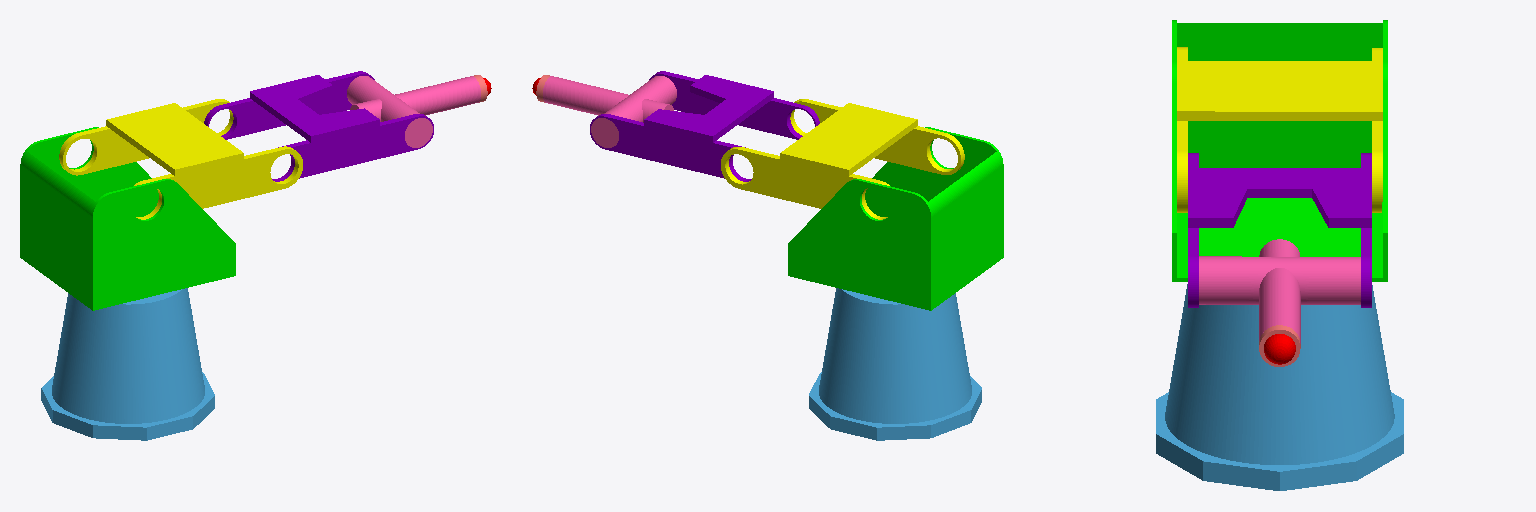
robot.urdf — scorbot:
<?xml version="1.0"?>

<robot name="scorbot">

  <!-- ======================================================= -->
  <!-- NOTA GENERAL                                           -->
  <!-- ======================================================= -->
  <!-- https://wiki.ros.org/urdf/XML
    visual    : Malla usada para mostrar el robot en RViz.
    collision : Malla usada para detectar colisiones en Gazebo.
    inertial  : Propiedades físicas del eslabón.

    En inertial:
    origin  -> centro de masa respecto al SC del link.
    mass    -> masa del eslabón en kg.
    inertia -> matriz de inercia respecto al centro de masa.

    En joint:
    origin  -> ubicación y orientación del SC hijo respecto al SC padre.
    axis    -> eje local de rotación o desplazamiento.
    limit   -> límites articulares.

    En limit:
    lower    -> límite inferior en radianes.
    upper    -> límite superior en radianes.
    effort   -> torque máximo permitido en N·m.
    velocity -> velocidad máxima permitida en rad/s.
  -->

  <!-- ======================================================= -->
  <!-- SISTEMA DE REFERENCIA GLOBAL                           -->
  <!-- ======================================================= -->

  <link name="world"/>

  <joint name="world_to_base" type="fixed">
    <parent link="world"/>
    <child link="base_link"/>
  </joint>

  <!-- ======================================================= -->
  <!-- BASE_LINK                                              -->
  <!-- ======================================================= -->

  <link name="base_link">
    <!-- ===================================================== -->
    <!-- PROPIEDADES DINÁMICAS DEL ESLABÓN BASE               -->
    <!-- ===================================================== -->
    <inertial>
      <origin xyz="0.00063327 0.00002002 0.0860836" rpy="0 0 0"/>
      <mass value="5.64418463"/>
      <inertia ixx="0.03159046" ixy="0.0" ixz="0.0"
               iyy="0.03159045" iyz="0.000000859"
               izz="0.02690899"/>
    </inertial>
    <!-- ===================================================== -->
    <!-- REPRESENTACIÓN VISUAL                                -->
    <!-- ===================================================== -->
    <visual>
      <origin xyz="0 0 0" rpy="0 0 0"/>
      <geometry>
        <mesh filename="package://scorbot_gazebo/meshes/base_link.stl"/>
      </geometry>
    </visual>
    <!-- ===================================================== -->
    <!-- GEOMETRÍA DE COLISIÓN                                -->
    <!-- ===================================================== -->
    <collision>
      <origin xyz="0 0 0" rpy="0 0 0"/>
      <geometry>
        <mesh filename="package://scorbot_gazebo/meshes/base_link.stl"/>
      </geometry>
    </collision>

  </link>

<!-- ======================================================= -->
<!-- ARTICULACIÓN J1                                        -->
<!-- ======================================================= -->
<!-- Tipo de articulación: Revoluta                         -->
<!-- Relación entre sistemas de coordenadas: SC{0} to SC{1} -->
<!-- Torque motor: 15 oz·in = 0.106 N·m                    -->
<!-- Reductor J1: 127.1 : 1                                -->
<!-- Torque estimado a la salida: 0.106 × 127.1 = 13.47 N·m -->
<!-- Rango angular: 310° = ±155°                           -->
<!-- Conversión: ±155° = ±2.705 rad                        -->
<!-- ======================================================= -->

  <joint name="j1" type="revolute">
    <origin xyz="0 0 0.19" rpy="0 0 0"/>
    <parent link="base_link"/>
    <child link="link_1"/>
    <axis xyz="0 0 1"/>
    <limit lower="-2.705" upper="2.705" effort="10" velocity="2.0"/>
  </joint>

  <!-- ======================================================= -->
  <!-- LINK_1                                                 -->
  <!-- ======================================================= -->

  <link name="link_1">
 <!-- ===================================================== -->
    <!-- PROPIEDADES DINÁMICAS DEL ESLABÓN                    -->
    <!-- ===================================================== -->
    <inertial>
      <origin xyz="-0.03930974 0.0 0.07464813" rpy="0 0 0"/>
      <mass value="0.76082182"/>
      <inertia ixx="0.00625249" ixy="0.0" ixz="0.00099059"
               iyy="0.00574761" iyz="0.0"
               izz="0.00805851"/>
    </inertial>
    <!-- ===================================================== -->
    <!-- REPRESENTACIÓN VISUAL                                -->
    <!-- ===================================================== -->
    <visual>
      <origin xyz="0 0 0" rpy="0 0 0"/>
      <geometry>
        <mesh filename="package://scorbot_gazebo/meshes/link_1.stl"/>
      </geometry>
      <material name="green">
        <color rgba="0.0 1.0 0.0 1.0"/>
      </material>
    </visual>
    <!-- ===================================================== -->
    <!-- GEOMETRÍA DE COLISIÓN                                -->
    <!-- ===================================================== -->
    <collision>
      <origin xyz="0 0 0" rpy="0 0 0"/>
      <geometry>
        <mesh filename="package://scorbot_gazebo/meshes/link_1.stl"/>
      </geometry>
    </collision>

  </link>

<!-- ======================================================= -->
<!-- ARTICULACIÓN J2                                        -->
<!-- ======================================================= -->
<!-- Tipo de articulación: Revoluta                         -->
<!-- Relación entre sistemas de coordenadas: SC{1} to SC{2} -->
<!-- Torque motor: 15 oz·in = 0.106 N·m                    -->
<!-- Reductor J2: 127.1 : 1                                -->
<!-- Torque estimado a la salida: 0.106 × 127.1 = 13.47 N·m -->
<!-- Rango angular: -35° to +130°                          -->
<!-- Conversión: -35° = -0.611 rad                         -->
<!-- Conversión: +130° = 2.269 rad                         -->
<!-- ======================================================= -->

  <joint name="j2" type="revolute">
    <origin xyz="-0.025 -0.095 0.16205333" rpy="1.57 0 0"/>
    <parent link="link_1"/>
    <child link="link_2"/>
    <axis xyz="0 0 1"/>
    <limit lower="-0.611" upper="2.269" effort="10" velocity="2.0"/>
  </joint>

  <!-- ======================================================= -->
  <!-- LINK_2                                                 -->
  <!-- ======================================================= -->

  <link name="link_2">
    <!-- ===================================================== -->
    <!-- PROPIEDADES DINÁMICAS DEL ESLABÓN                    -->
    <!-- ===================================================== -->
    <inertial>
      <origin xyz="0.10539325 0.0 0.01621919" rpy="0 0 0"/>
      <mass value="0.45100885"/>
      <inertia ixx="0.00280980" ixy="0.0" ixz="0.00003902"
               iyy="0.00139816" iyz="0.0"
               izz="0.00377041"/>
    </inertial>
    <!-- ===================================================== -->
    <!-- REPRESENTACIÓN VISUAL                                -->
    <!-- ===================================================== -->
    <visual>
      <origin xyz="0 0 0" rpy="0 0 0"/>
      <geometry>
        <mesh filename="package://scorbot_gazebo/meshes/link_2.stl"/>
      </geometry>
      <material name="yellow">
        <color rgba="1.0 1.0 0.0 1.0"/>
      </material>
    </visual>
    <!-- ===================================================== -->
    <!-- GEOMETRÍA DE COLISIÓN                                -->
    <!-- ===================================================== -->
    <collision>
      <origin xyz="0 0 0" rpy="0 0 0"/>
      <geometry>
        <mesh filename="package://scorbot_gazebo/meshes/link_2.stl"/>
      </geometry>
    </collision>

  </link>

<!-- ======================================================= -->
<!-- ARTICULACIÓN J3                                        -->
<!-- ======================================================= -->
<!-- Tipo de articulación: Revoluta                         -->
<!-- Relación entre sistemas de coordenadas: SC{2} to SC{3} -->
<!-- Torque motor: 15 oz·in = 0.106 N·m                    -->
<!-- Reductor J3: 127.1 : 1                                -->
<!-- Torque estimado a la salida: 0.106 × 127.1 = 13.47 N·m -->
<!-- Rango angular: ±130°                                  -->
<!-- Conversión: ±130° = ±2.269 rad                        -->
<!-- ======================================================= -->

  <joint name="j3" type="revolute">
    <origin xyz="0.22 0.0 -0.01" rpy="0 0 0"/>
    <parent link="link_2"/>
    <child link="link_3"/>
    <axis xyz="0 0 1"/>
    <limit lower="-2.269" upper="2.269" effort="10" velocity="2.0"/>
  </joint>

  <!-- ======================================================= -->
  <!-- LINK_3                                                 -->
  <!-- ======================================================= -->

  <link name="link_3">
    <!-- ===================================================== -->
    <!-- PROPIEDADES DINÁMICAS DEL ESLABÓN                    -->
    <!-- ===================================================== -->
    <inertial>
      <origin xyz="0.10355563 -0.00007485 0.01245472" rpy="0 0 0"/>
      <mass value="0.33453905"/>
      <inertia ixx="0.00179957" ixy="0.00000085" ixz="0.00003783"
               iyy="0.00095300" iyz="0.00000044"
               izz="0.00251621"/>
    </inertial>
    <!-- ===================================================== -->
    <!-- REPRESENTACIÓN VISUAL                                -->
    <!-- ===================================================== -->
    <visual>
      <origin xyz="0 0 0" rpy="0 0 0"/>
      <geometry>
        <mesh filename="package://scorbot_gazebo/meshes/link_3.stl"/>
      </geometry>
      <material name="purple">
        <color rgba="0.6 0.0 0.8 1.0"/>
      </material>
    </visual>
    <!-- ===================================================== -->
    <!-- GEOMETRÍA DE COLISIÓN                                -->
    <!-- ===================================================== -->
    <collision>
      <origin xyz="0 0 0" rpy="0 0 0"/>
      <geometry>
        <mesh filename="package://scorbot_gazebo/meshes/link_3.stl"/>
      </geometry>
    </collision>

  </link>

<!-- ======================================================= -->
<!-- ARTICULACIÓN J4                                        -->
<!-- ======================================================= -->
<!-- Tipo de articulación: Revoluta                         -->
<!-- Relación entre sistemas de coordenadas: SC{3} to SC{4} -->
<!-- Torque motor: 15 oz·in = 0.106 N·m                    -->
<!-- Reductor J4: 65.5 : 1                                 -->
<!-- Torque estimado a la salida: 0.106 × 65.5 = 6.94 N·m  -->
<!-- Rango angular: ±130°                                  -->
<!-- Conversión: ±130° = ±2.269 rad                        -->
<!-- ======================================================= -->

  <joint name="j4" type="revolute">
    <origin xyz="0.22 0.0 0.00" rpy="0 0 1.57"/>
    <parent link="link_3"/>
    <child link="link_4"/>
    <axis xyz="0 0 1"/>
    <limit lower="-2.269" upper="2.269" effort="10" velocity="2.0"/>
  </joint>

  <!-- ======================================================= -->
  <!-- LINK_4                                                 -->
  <!-- ======================================================= -->

  <link name="link_4">
    <!-- ===================================================== -->
    <!-- PROPIEDADES DINÁMICAS DEL ESLABÓN                    -->
    <!-- ===================================================== -->
    <inertial>
      <origin xyz="-0.00000004 -0.02155892 -0.08499989" rpy="0 0 0"/>
      <mass value="0.43957892"/>
      <inertia ixx="0.00154062" ixy="-0.00000001" ixz="0.0"
               iyy="0.00071661" iyz="0.0"
               izz="0.00092437"/>
    </inertial>

    <!-- ===================================================== -->
    <!-- REPRESENTACIÓN VISUAL                                -->
    <!-- ===================================================== -->
    <visual>
      <origin xyz="0 0 0" rpy="0 0 0"/>
      <geometry>
        <mesh filename="package://scorbot_gazebo/meshes/link_4.stl"/>
      </geometry>
      <material name="pink">
        <color rgba="1.0 0.4 0.7 1.0"/>
      </material>
    </visual>
    <!-- ===================================================== -->
    <!-- GEOMETRÍA DE COLISIÓN                                -->
    <!-- ===================================================== -->
    <collision>
      <origin xyz="0 0 0" rpy="0 0 0"/>
      <geometry>
        <mesh filename="package://scorbot_gazebo/meshes/link_4.stl"/>
      </geometry>
    </collision>

  </link>

<!-- ======================================================= -->
<!-- ARTICULACIÓN J5                                        -->
<!-- ======================================================= -->
<!-- Tipo de articulación: Revoluta                         -->
<!-- Relación entre sistemas de coordenadas: SC{4} to SC{5} -->
<!-- Torque motor: 15 oz·in = 0.106 N·m                    -->
<!-- Reductor J5: 65.5 : 1                                 -->
<!-- Torque estimado a la salida: 0.106 × 65.5 = 6.94 N·m  -->
<!-- Rango original: ±570° = ±9.948 rad                    -->
<!-- Rango usado en URDF: ±360° = ±6.283 rad               -->
<!-- Nota: se redujo el rango para facilitar la visualización -->
<!-- ======================================================= -->

  <joint name="j5" type="revolute">
    <origin xyz="0.0 -0.14790 -0.085" rpy="1.57 1.57 0"/>
    <parent link="link_4"/>
    <child link="link_5"/>
    <axis xyz="0 0 1"/>
    <limit lower="-6.283" upper="6.283" effort="10" velocity="2.0"/>
  </joint>

  <!-- ======================================================= -->
  <!-- LINK_5                                                 -->
  <!-- ======================================================= -->

  <link name="link_5">

    <inertial>
      <origin xyz="0.0 0.0 -0.005" rpy="0 0 0"/>
      <mass value="0.1147285"/>
      <inertia ixx="0.01" ixy="0.0" ixz="0.0"
               iyy="0.01" iyz="0.0"
               izz="0.01"/>
    </inertial>
    <!-- ===================================================== -->
    <!-- PROPIEDADES DINÁMICAS DEL ESLABÓN                    -->
    <!-- ===================================================== -->
    <visual>
      <origin xyz="0 0 0" rpy="0 0 0"/>
      <geometry>
        <mesh filename="package://scorbot_gazebo/meshes/link_5.stl"/>
      </geometry>
      <material name="light_red">
        <color rgba="1.0 0.5 0.5 1.0"/>
      </material>
    </visual>
    <!-- ===================================================== -->
    <!-- REPRESENTACIÓN VISUAL                                -->
    <!-- ===================================================== -->
    <collision>
      <origin xyz="0 0 0" rpy="0 0 0"/>
      <geometry>
        <mesh filename="package://scorbot_gazebo/meshes/link_5.stl"/>
      </geometry>
    </collision>

  </link>
  <!-- ======================================================= -->
  <!-- ROS 2 CONTROL PARA GAZEBO CON INTERFAZ DE ESFUERZO      -->
  <!-- ======================================================= -->
  <!-- ======================================================= -->
  <!-- TOOL LINK / EFECTOR FINAL                               -->
  <!-- ======================================================= -->
  <!-- Este frame representa la punta del efector final.        -->
  <!-- Se usa para comparar la trayectoria cartesiana deseada   -->
  <!-- contra la trayectoria real del robot.                    -->
  <!-- ======================================================= -->

  <link name="tool_link">
    <visual>
      <origin xyz="0 0 0" rpy="0 0 0"/>
      <geometry>
        <sphere radius="0.015"/>
      </geometry>
      <material name="tool_red">
        <color rgba="1 0 0 1"/>
      </material>
    </visual>
  </link>

  <joint name="link_5_to_tool" type="fixed">
    <parent link="link_5"/>
    <child link="tool_link"/>
    <origin xyz="0.0 0.0 0.0" rpy="0 0 0"/>
  </joint>
  <ros2_control name="GazeboSystem" type="system">
    <hardware>
      <plugin>gz_ros2_control/GazeboSimSystem</plugin>
    </hardware>

<joint name="j1">
  <command_interface name="effort">
    <param name="min">-100</param>
    <param name="max">100</param>
  </command_interface>
  <state_interface name="position">
    <param name="initial_value">0.0</param>
  </state_interface>
  <state_interface name="velocity"/>
</joint>

<joint name="j2">
  <command_interface name="effort">
    <param name="min">-100</param>
    <param name="max">100</param>
  </command_interface>
  <state_interface name="position">
    <param name="initial_value">0.349</param>
  </state_interface>
  <state_interface name="velocity"/>
</joint>

<joint name="j3">
  <command_interface name="effort">
    <param name="min">-100</param>
    <param name="max">100</param>
  </command_interface>
  <state_interface name="position">
    <param name="initial_value">-0.75</param>
  </state_interface>
  <state_interface name="velocity"/>
</joint>

<joint name="j4">
  <command_interface name="effort">
    <param name="min">-100</param>
    <param name="max">100</param>
  </command_interface>
  <state_interface name="position">
    <param name="initial_value">0.0</param>
  </state_interface>
  <state_interface name="velocity"/>
</joint>

<joint name="j5">
  <command_interface name="effort">
    <param name="min">-100</param>
    <param name="max">100</param>
  </command_interface>
  <state_interface name="position">
    <param name="initial_value">1.57</param>
  </state_interface>
  <state_interface name="velocity"/>
</joint>
  </ros2_control>


  <!-- ======================================================= -->
  <!-- PLUGIN GZ_ROS2_CONTROL                                  -->
  <!-- ======================================================= -->

  <gazebo>
    <plugin
      filename="gz_ros2_control-system"
      name="gz_ros2_control::GazeboSimROS2ControlPlugin">
      <parameters>__SCORBOT_CONTROLLERS_YAML__</parameters>
    </plugin>

    <!-- Reposicionamiento rápido entre evaluaciones.
         No elimina el robot ni reinicia el mundo. -->
    <plugin
      filename="libscorbot_home_state_system.so"
      name="scorbot_gazebo::ScorbotHomeStateSystem">

      <joint_names>
        j1 j2 j3 j4 j5
      </joint_names>

      <!-- Primera muestra de joints_trajectory.csv -->
      <home_positions>
        0.000000 0.226002 -0.855270 0.629268 1.570796
      </home_positions>

      <!-- Dos iteraciones para la prueba inicial. -->
      <reset_cycles>2</reset_cycles>

      <log_resets>true</log_resets>
    </plugin>
  </gazebo>
</robot>

--- Render facts (derived) ---
The picture shows the robot from 3 angles, left to right: view 1: azimuth 30°, elevation 25°; view 2: azimuth 150°, elevation 25°; view 3: azimuth 270°, elevation 25°; orthographic projection.
Robot: scorbot — 8 links, 7 joints (5 revolute, 2 fixed); root link world; default pose: all joints at 0.
Visible links, largest first — view 1: link_1, base_link, link_2, link_3, link_4; view 2: link_1, base_link, link_2, link_3, link_4; view 3: base_link, link_1, link_2, link_3, link_4, tool_link, link_5.
Boxes of the visible links, <box> form: link_1: <box>20,127,235,310</box>; base_link: <box>41,288,214,440</box>; link_2: <box>59,99,302,219</box>; link_3: <box>204,71,433,181</box>; link_4: <box>347,76,480,147</box>; link_1: <box>788,127,1003,310</box>; base_link: <box>809,288,981,440</box>; link_2: <box>721,99,964,219</box>; link_3: <box>590,71,819,181</box>; link_4: <box>543,76,676,147</box>; base_link: <box>1156,284,1403,490</box>; link_1: <box>1172,20,1387,281</box>; link_2: <box>1177,47,1382,212</box>; link_3: <box>1188,153,1371,307</box>; link_4: <box>1199,239,1360,343</box>; tool_link: <box>1264,334,1295,364</box>; link_5: <box>1259,325,1300,366</box>.
Bounding box of the posed robot: 0.6982 × 0.23 × 0.3921 m (x, y, z).
Meshes: 6 distinct files referenced, 6 mesh visuals loaded (6 ASCII STL).
